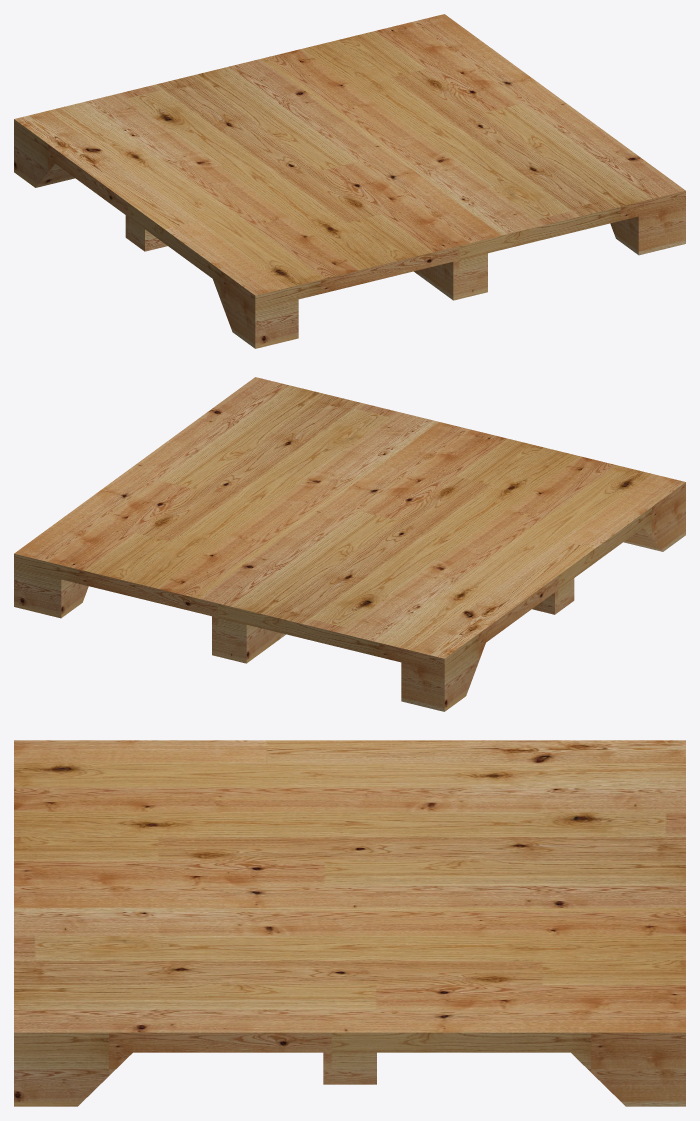
The model's file is BigShelvesWoodBox-transformed.glb.
3 renders of one model, top to bottom at view 1: azimuth 30°, elevation 25°; view 2: azimuth 150°, elevation 25°; view 3: azimuth 270°, elevation 25°, orthographic. The views are drawn at different scales.
Visible parts, largest first — view 1: BigShelvesWoodBox; view 2: BigShelvesWoodBox; view 3: BigShelvesWoodBox.
Part boxes in pixels (x1,y1,x2,y2): BigShelvesWoodBox: (14, 14, 685, 348); BigShelvesWoodBox: (14, 377, 685, 711); BigShelvesWoodBox: (14, 740, 685, 1106).
Size of the model in its own units: 1.05 by 0.124 by 1.02.
1 material, 1 textured.
